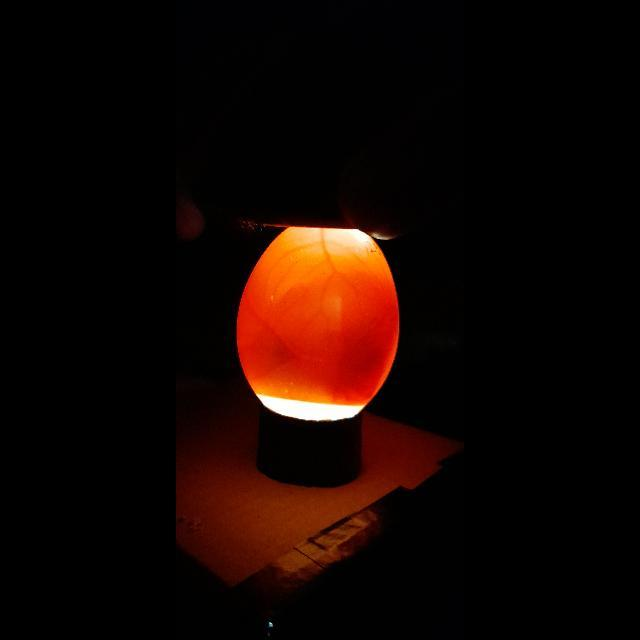Fertile: (233, 222, 399, 423)
